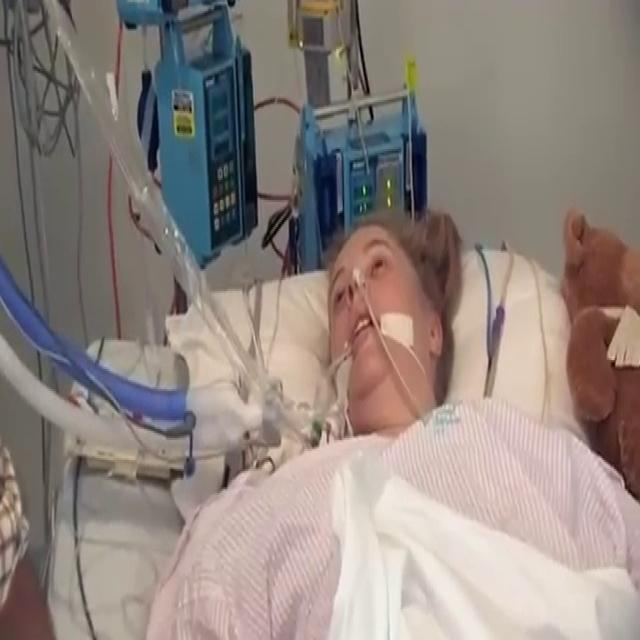monitor: (152, 7, 259, 269)
patient: (144, 206, 638, 638)
